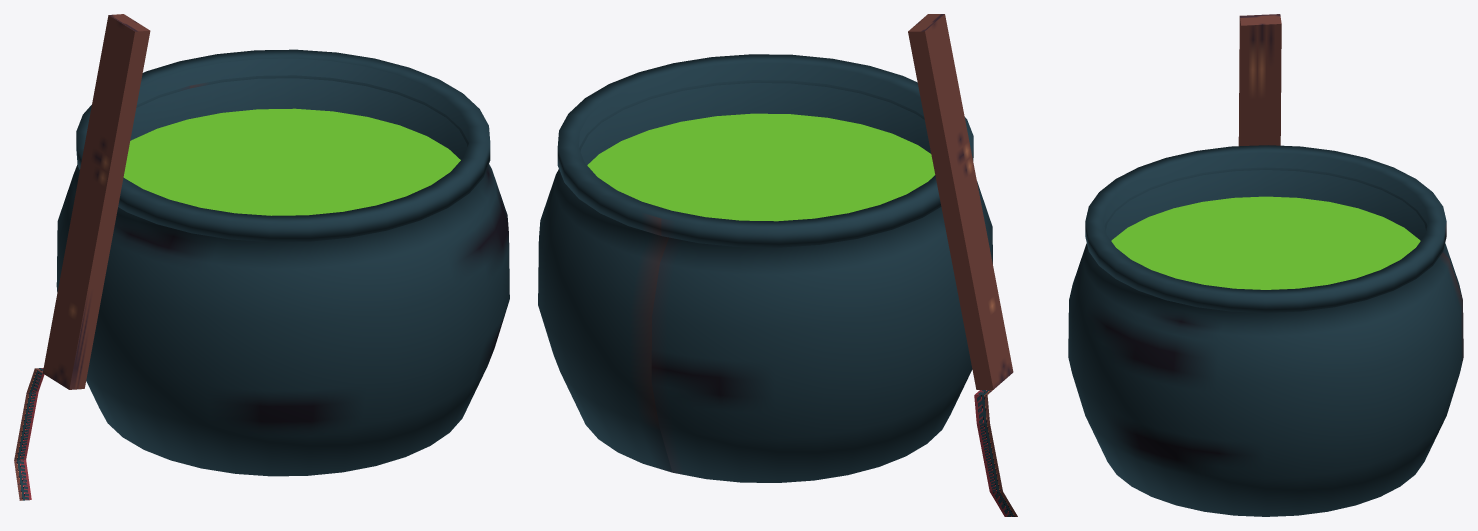
The model's file is Caldeirao.fbx.
3 renders of one model, left to right at view 1: azimuth 30°, elevation 25°; view 2: azimuth 150°, elevation 25°; view 3: azimuth 270°, elevation 25°, orthographic. The views are drawn at different scales.
Visible parts, largest first — view 1: Calderao; view 2: Calderao; view 3: Calderao.
Boxes of the visible parts, box(x1,y1,x2,y2) form: Calderao: box(14, 14, 509, 500); Calderao: box(538, 14, 1017, 516); Calderao: box(1068, 14, 1463, 516).
Size of the model in its own units: 146 by 127 by 144.
